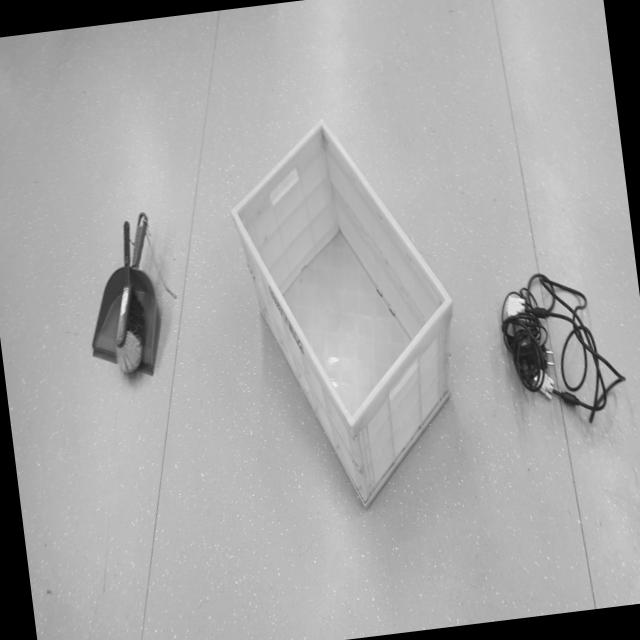box: (215, 91, 486, 544)
